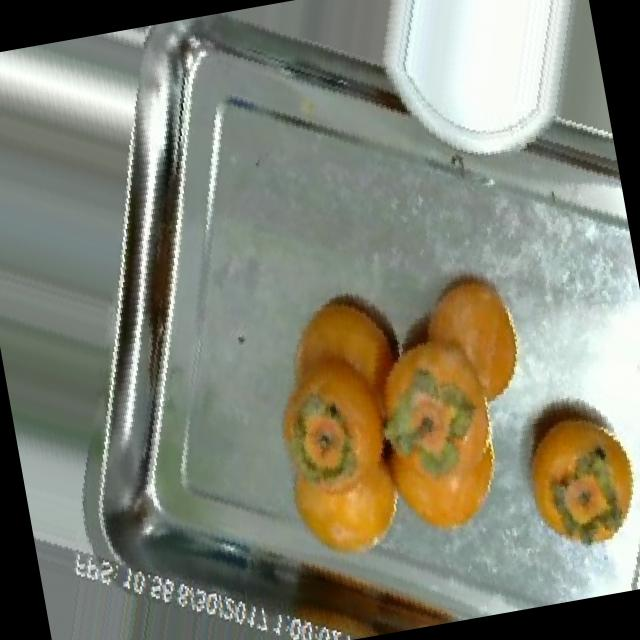Fruit: (351, 332, 528, 560), (376, 240, 548, 438), (489, 356, 640, 579)
